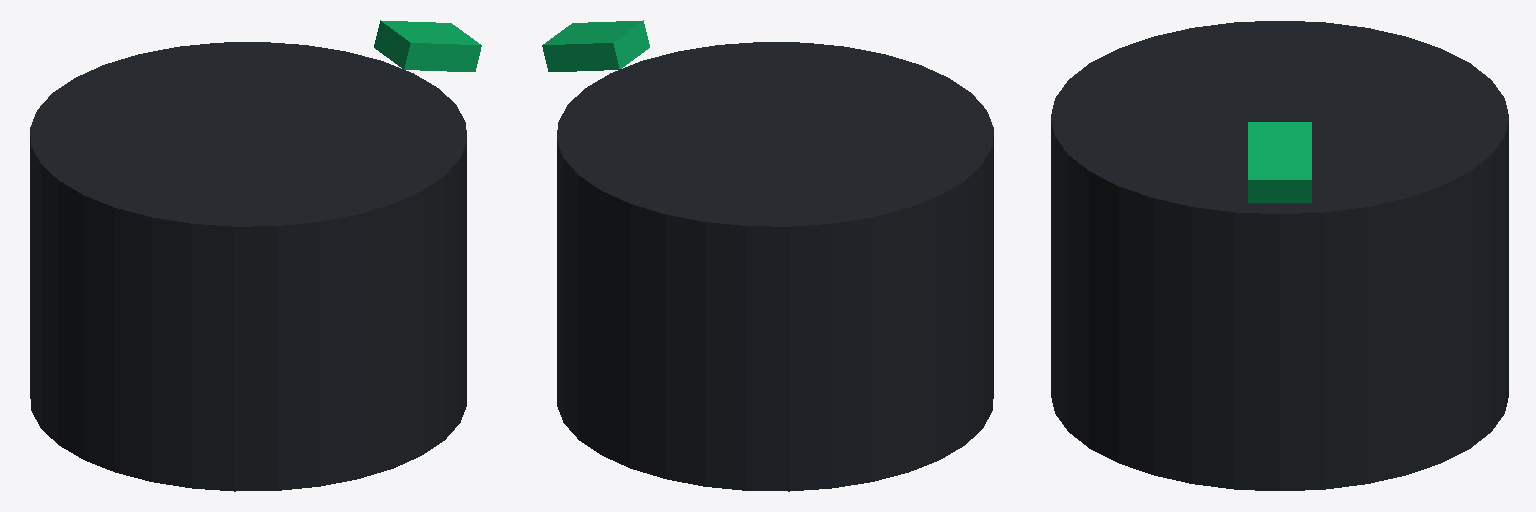
The robot description file, URDF, robot "tof_robot":
<?xml version="1.0"?>
<robot name="tof_robot">
  <material name="base_dark">
    <color rgba="0.18 0.20 0.22 1.0"/>
  </material>

  <material name="tof_green">
    <color rgba="0.10 0.70 0.42 1.0"/>
  </material>

  <link name="base_footprint"/>

  <joint name="base_footprint_joint" type="fixed">
    <parent link="base_footprint"/>
    <child link="base_link"/>
    <origin xyz="0 0 0" rpy="0 0 0"/>
  </joint>

  <link name="base_link">
    <inertial>
      <origin xyz="0 0 0.06" rpy="0 0 0"/>
      <mass value="3.0"/>
      <inertia
        ixx="0.0279"
        ixy="0.0"
        ixz="0.0"
        iyy="0.0279"
        iyz="0.0"
        izz="0.0486"/>
    </inertial>

    <visual>
      <origin xyz="0 0 0.06" rpy="0 0 0"/>
      <geometry>
        <cylinder radius="0.09" length="0.12"/>
      </geometry>
      <material name="base_dark"/>
    </visual>

    <collision>
      <origin xyz="0 0 0.06" rpy="0 0 0"/>
      <geometry>
        <cylinder radius="0.09" length="0.12"/>
      </geometry>
    </collision>
  </link>

  <link name="tof_sensor_link">
    <inertial>
      <origin xyz="0 0 0" rpy="0 0 0"/>
      <mass value="0.05"/>
      <inertia
        ixx="0.000004"
        ixy="0.0"
        ixz="0.0"
        iyy="0.000006"
        iyz="0.0"
        izz="0.000008"/>
    </inertial>

    <visual>
      <origin xyz="0 0 0" rpy="0 0 0"/>
      <geometry>
        <box size="0.035 0.025 0.012"/>
      </geometry>
      <material name="tof_green"/>
    </visual>

    <collision>
      <origin xyz="0 0 0" rpy="0 0 0"/>
      <geometry>
        <box size="0.035 0.025 0.012"/>
      </geometry>
    </collision>
  </link>

  <!-- +X is the sensing direction. Positive pitch tilts the sensor downward. -->
  <joint name="tof_sensor_joint" type="fixed">
    <parent link="base_link"/>
    <child link="tof_sensor_link"/>
    <origin xyz="0.085 0 0.14" rpy="0 0.261799 0"/>
  </joint>

  <gazebo reference="base_link">
    <material>Gazebo/DarkGrey</material>
  </gazebo>

  <gazebo>
    <plugin
      filename="ignition-gazebo-velocity-control-system"
      name="ignition::gazebo::systems::VelocityControl">
      <topic>/cmd_vel</topic>
      <link_name>base_footprint</link_name>
    </plugin>

    <plugin
      filename="ignition-gazebo-odometry-publisher-system"
      name="ignition::gazebo::systems::OdometryPublisher">
      <odom_frame>odom</odom_frame>
      <robot_base_frame>base_footprint</robot_base_frame>
      <child_frame_id>base_footprint</child_frame_id>
      <dimensions>2</dimensions>
      <odom_publish_frequency>30</odom_publish_frequency>
      <odom_topic>/odom</odom_topic>
      <tf_topic>/tf</tf_topic>
    </plugin>
  </gazebo>

  <gazebo reference="tof_sensor_link">
    <material>Gazebo/Green</material>

    <sensor name="tof_array" type="gpu_lidar">
      <pose>0 0 0 0 0 0</pose>
      <topic>/tof_sim/raw_tof</topic>
      <always_on>true</always_on>
      <visualize>true</visualize>
      <update_rate>15</update_rate>

      <lidar>
        <scan>
          <horizontal>
            <samples>8</samples>
            <resolution>1</resolution>
            <min_angle>-0.389</min_angle>
            <max_angle>0.389</max_angle>
          </horizontal>
          <vertical>
            <samples>8</samples>
            <resolution>1</resolution>
            <min_angle>-0.389</min_angle>
            <max_angle>0.389</max_angle>
          </vertical>
        </scan>

        <range>
          <min>0.05</min>
          <max>4.0</max>
          <resolution>0.001</resolution>
        </range>

        <noise>
          <type>gaussian</type>
          <mean>0.0</mean>
          <stddev>0.01</stddev>
        </noise>
      </lidar>
    </sensor>
  </gazebo>
</robot>

--- What the picture shows (computed from the rendered views, not written in the file) ---
The picture shows the robot from 3 angles, left to right: view 1: azimuth 30°, elevation 25°; view 2: azimuth 150°, elevation 25°; view 3: azimuth 270°, elevation 25°; orthographic projection.
Model tof_robot with 3 links and 2 joints (2 fixed), rooted at base_footprint, posed every joint at zero.
Visible links, largest first — view 1: base_link, tof_sensor_link; view 2: base_link, tof_sensor_link; view 3: base_link, tof_sensor_link.
Link boxes in pixels (x1=…): base_link: x1=30, y1=42, x2=466, y2=491; tof_sensor_link: x1=374, y1=20, x2=481, y2=71; base_link: x1=557, y1=42, x2=993, y2=491; tof_sensor_link: x1=542, y1=20, x2=649, y2=71; base_link: x1=1051, y1=21, x2=1508, y2=490; tof_sensor_link: x1=1248, y1=122, x2=1311, y2=202.
Bounding box of the posed robot: 0.1935 × 0.18 × 0.1503 m (x, y, z).
Geometry: primitives only (box / cylinder / sphere), no mesh files.
